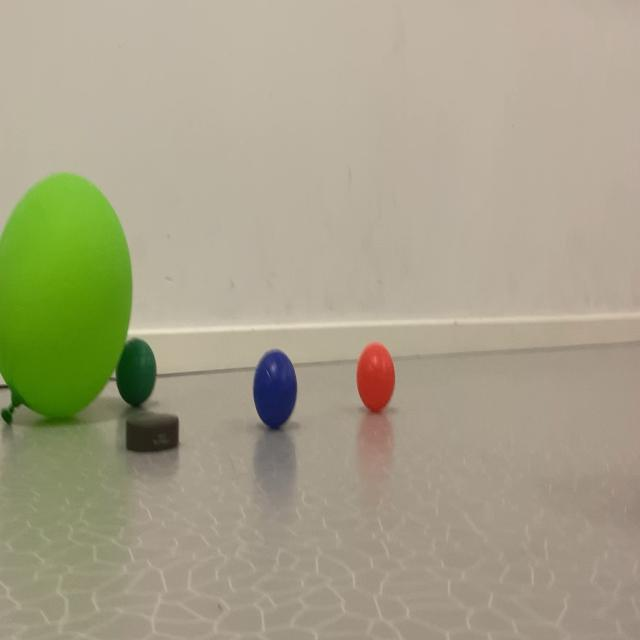7: (349, 320, 430, 438)
green ball: (242, 328, 312, 446)
red ball: (108, 317, 173, 409)
